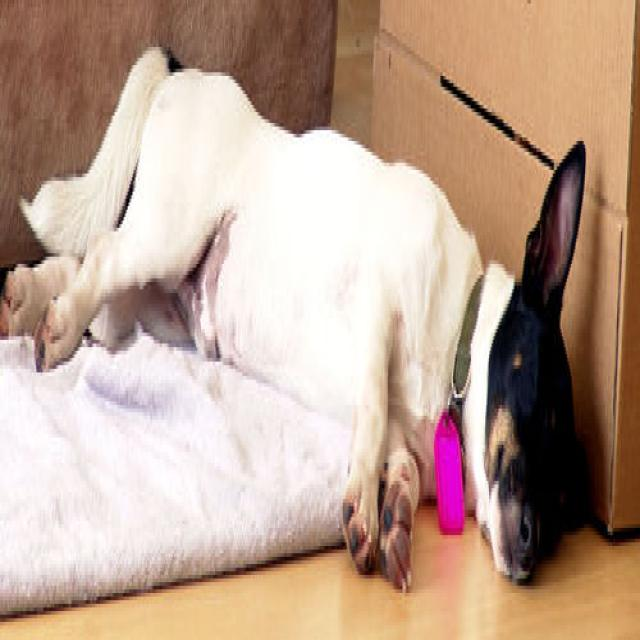dog: (1, 41, 587, 598)
